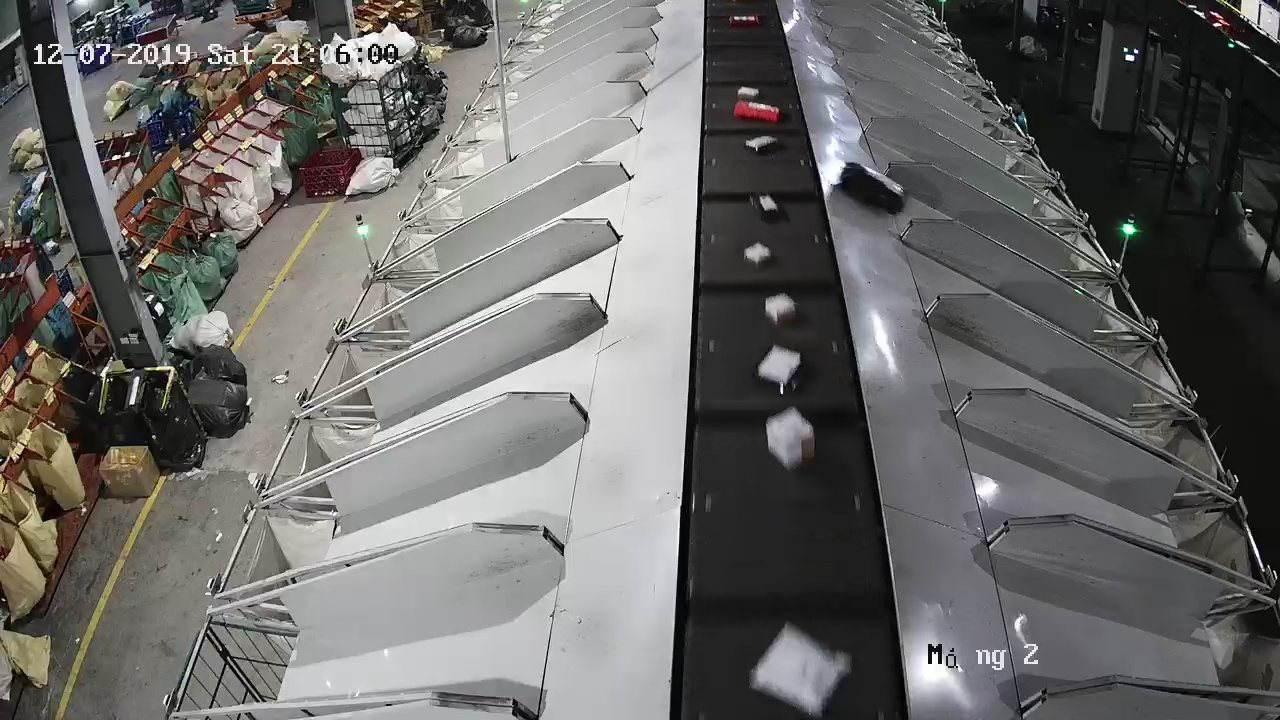parcel: (838, 161, 907, 215)
